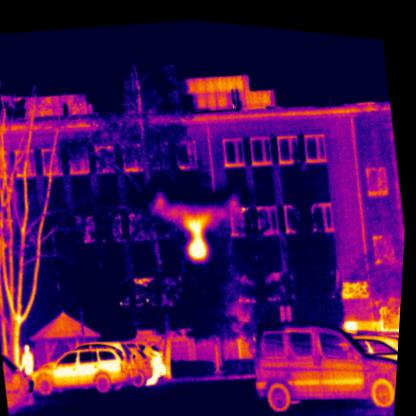drone: (146, 171, 251, 267)
human: (19, 341, 40, 374)
vehicle: (248, 295, 403, 415), (30, 332, 135, 403)
